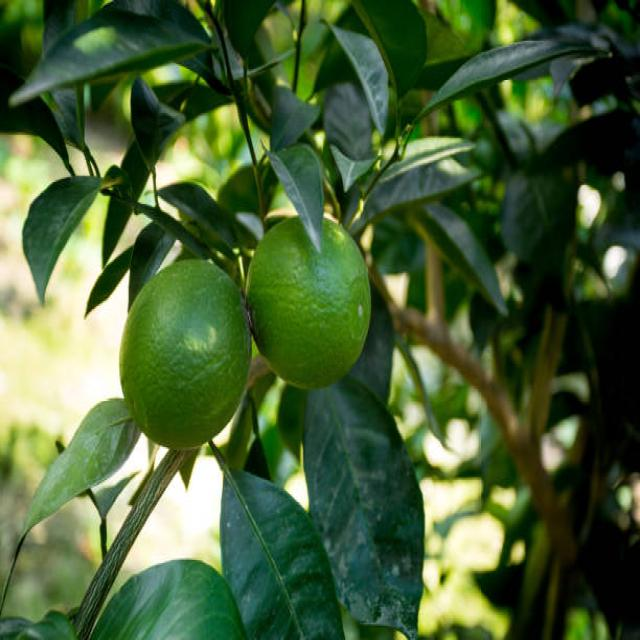Unripe: (120, 257, 250, 452), (248, 212, 370, 391)
